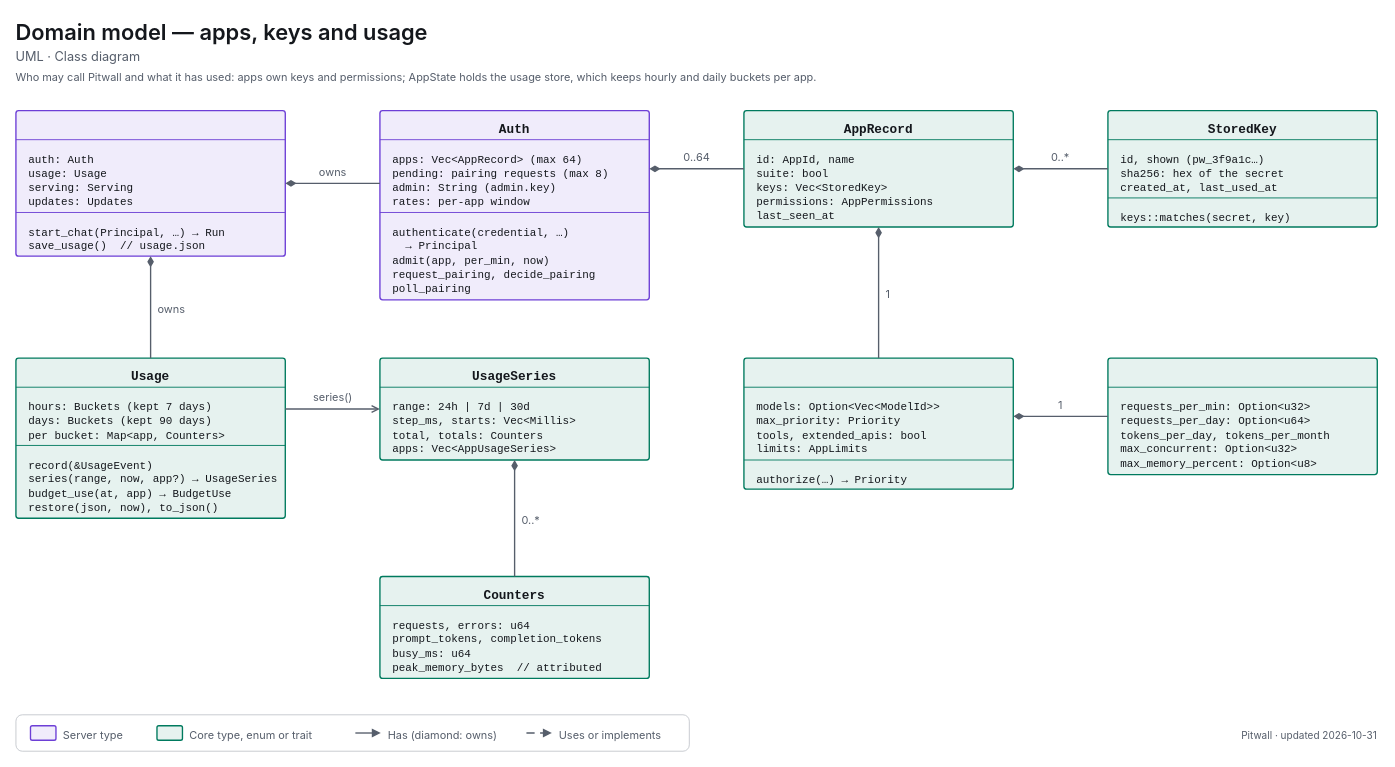
Some shapes in this 1395 by 767 pixel diagram are drawn without their labels. The shapes that lost their labels are listed below. From the top down, each one's box as (x1, y1, x2, y2) in pixels, then its label:
(15, 109, 286, 256): AppState
(743, 357, 1014, 489): AppPermissions
(1107, 357, 1378, 475): AppLimits
